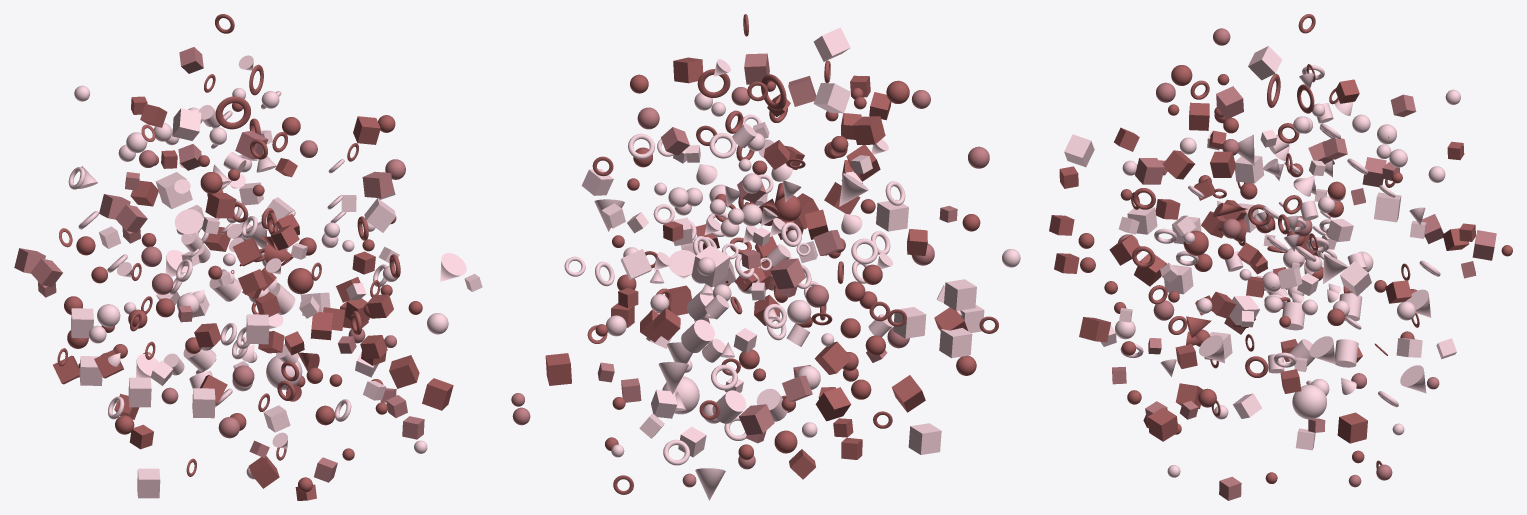
Rendered from Boom.fbx.
3 views of the same model, side by side, from view 1: azimuth 30°, elevation 25°; view 2: azimuth 150°, elevation 25°; view 3: azimuth 270°, elevation 25° (orthographic). The views are drawn at different scales.
Visible parts, largest first — view 1: MassAround, TreeShaped; view 2: MassAround, TreeShaped; view 3: MassAround, TreeShaped.
Boxes of the visible parts, x1,y1,x2,y2 form: MassAround: (14,47,482,500); TreeShaped: (169,14,319,460); MassAround: (511,27,1020,500); TreeShaped: (662,14,812,457); MassAround: (1049,28,1512,500); TreeShaped: (1183,14,1366,450).
Size of the model in its own units: 8662 by 9211 by 9062.
